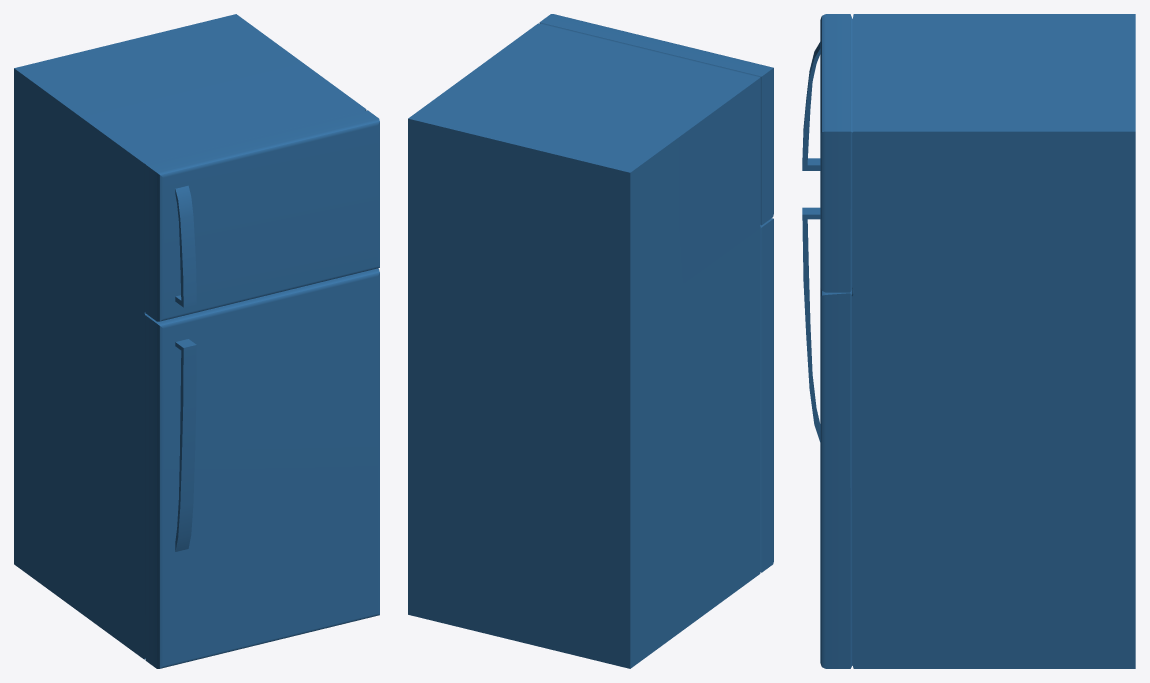
File: heladera01.fbx
3 views of the same model, side by side, from view 1: azimuth 30°, elevation 25°; view 2: azimuth 150°, elevation 25°; view 3: azimuth 270°, elevation 25° (orthographic). The views are drawn at different scales.
Parts seen in each view (by area): view 1: Heladera01; view 2: Heladera01; view 3: Heladera01.
Boxes of the visible parts, <box> form: Heladera01: <box>14,14,379,668</box>; Heladera01: <box>408,14,773,668</box>; Heladera01: <box>802,14,1135,668</box>.
Size of the model in its own units: 0.8867 by 1.89 by 1.06.
